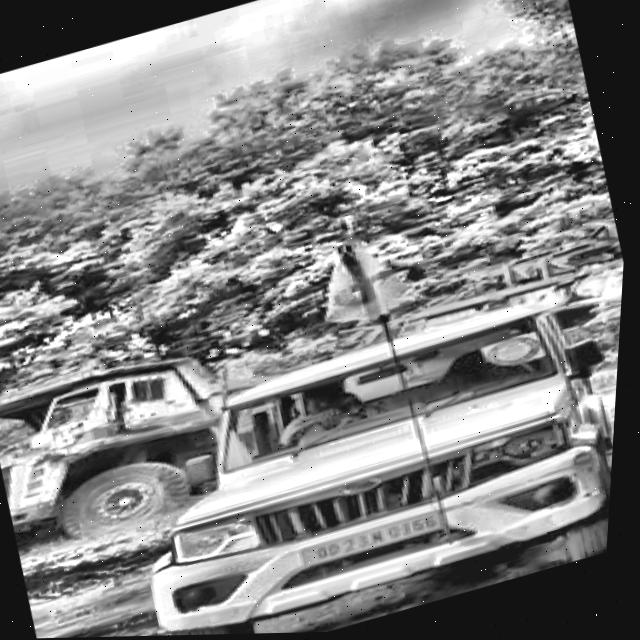light_vehicle: (114, 281, 626, 637)
